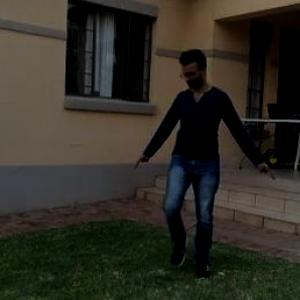land: (111, 32, 265, 296)
